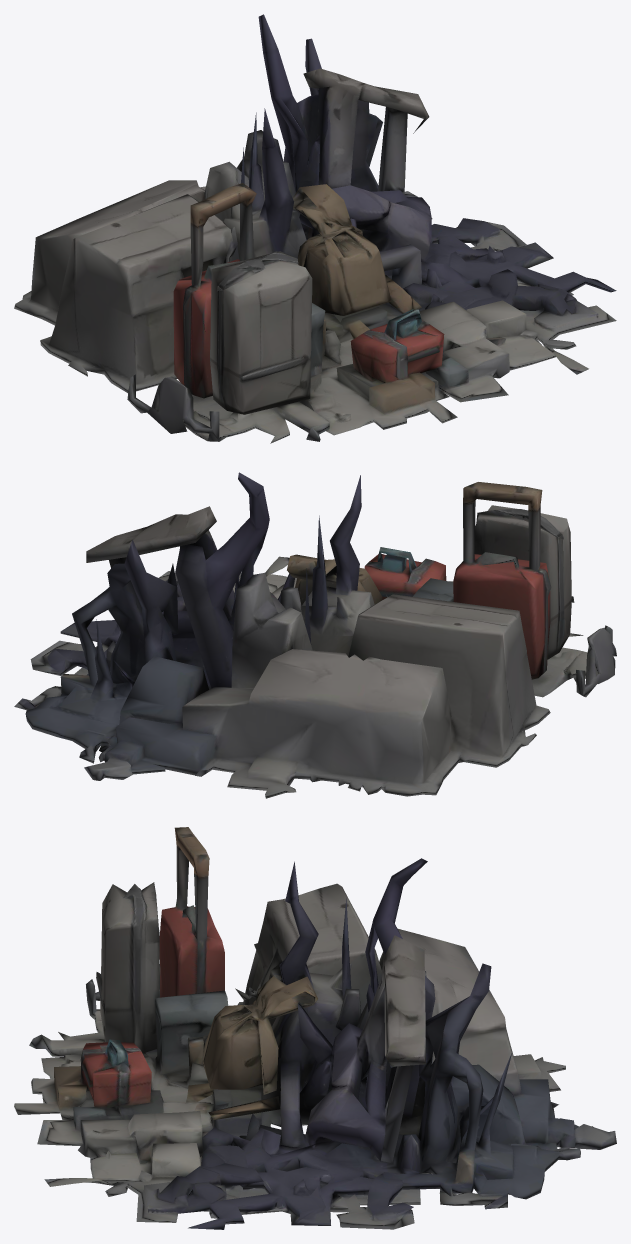
Rendered from SM_Prop_LootPile_01.fbx.
3 views of the same model, one above another, from view 1: azimuth 30°, elevation 25°; view 2: azimuth 150°, elevation 25°; view 3: azimuth 270°, elevation 25° (orthographic). The views are drawn at different scales.
Parts seen in each view (by area): view 1: SM_Prop_LootPile_01; view 2: SM_Prop_LootPile_01; view 3: SM_Prop_LootPile_01.
Boxes of the visible parts, x1,y1,x2,y2 form: SM_Prop_LootPile_01: [14, 14, 616, 443]; SM_Prop_LootPile_01: [14, 472, 616, 798]; SM_Prop_LootPile_01: [14, 827, 616, 1229].
Bounding box in the file's own units: 0.9358 × 0.4801 × 1.
1 material, 1 textured.
